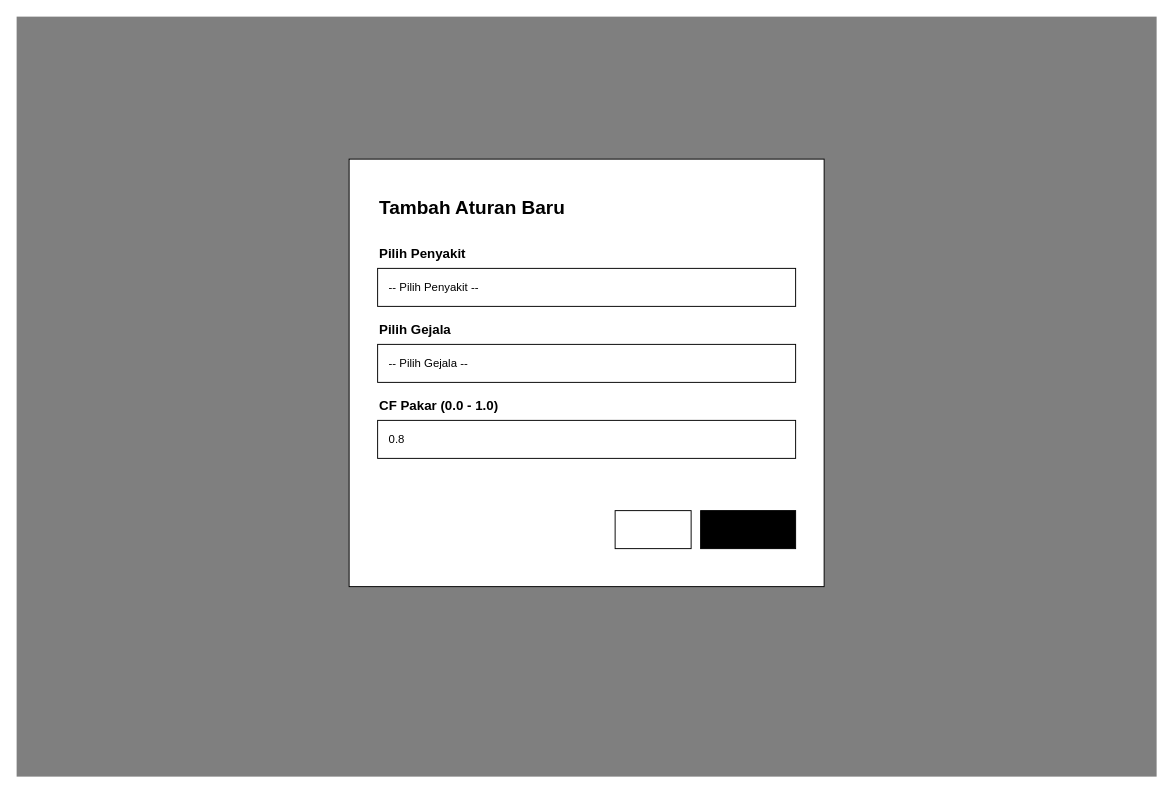
This 1172x792 diagram has some shape labels left out. The centre of each missing label's shape, as x and y in pixels:
Batal: the point at 652,529
Simpan: the point at 748,529
